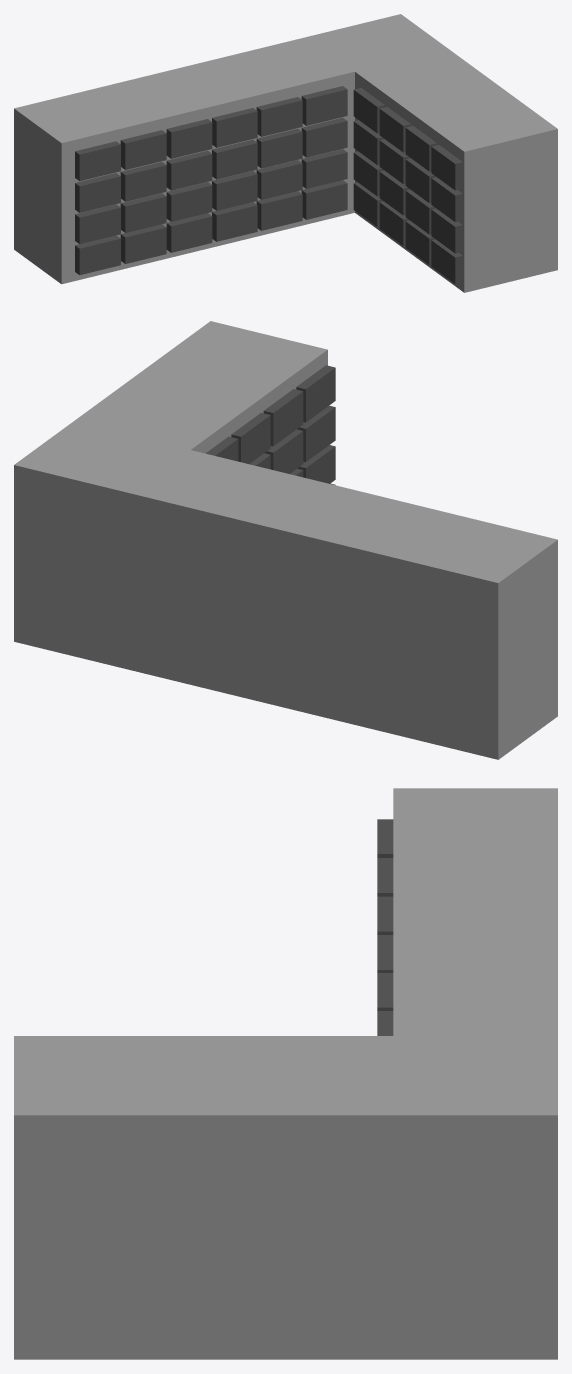
The model's file is kasa.fbx.
3 renders of one model, top to bottom at view 1: azimuth 30°, elevation 25°; view 2: azimuth 150°, elevation 25°; view 3: azimuth 270°, elevation 25°, orthographic. The views are drawn at different scales.
Parts seen in each view (by area): view 1: uv_kasa, uv_kasa.001; view 2: uv_kasa, uv_kasa.001; view 3: uv_kasa, uv_kasa.001.
Part boxes in pixels (x1,y1,x2,y2): uv_kasa: (14, 14, 557, 292); uv_kasa.001: (75, 86, 462, 284); uv_kasa: (14, 321, 557, 759); uv_kasa.001: (205, 365, 335, 485); uv_kasa: (14, 788, 557, 1359); uv_kasa.001: (377, 819, 393, 1035).
Size of the model in its own units: 42.71 by 30.03 by 14.89.
